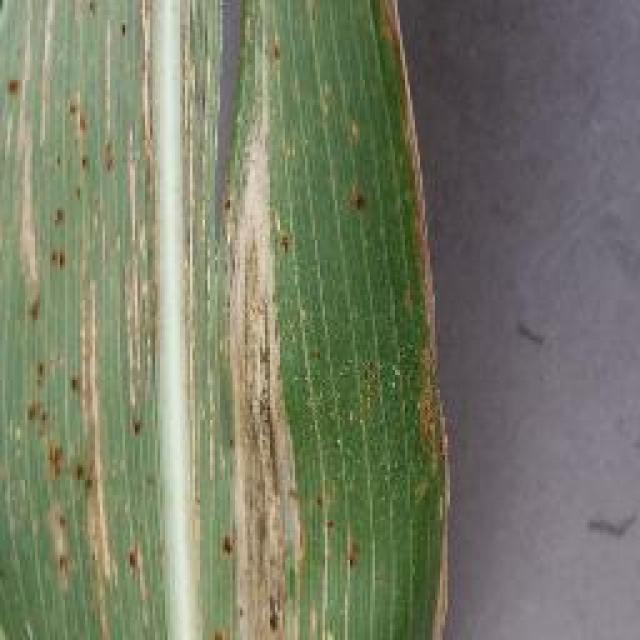Corn___Northern_Leaf_Blight: (0, 2, 482, 639)
